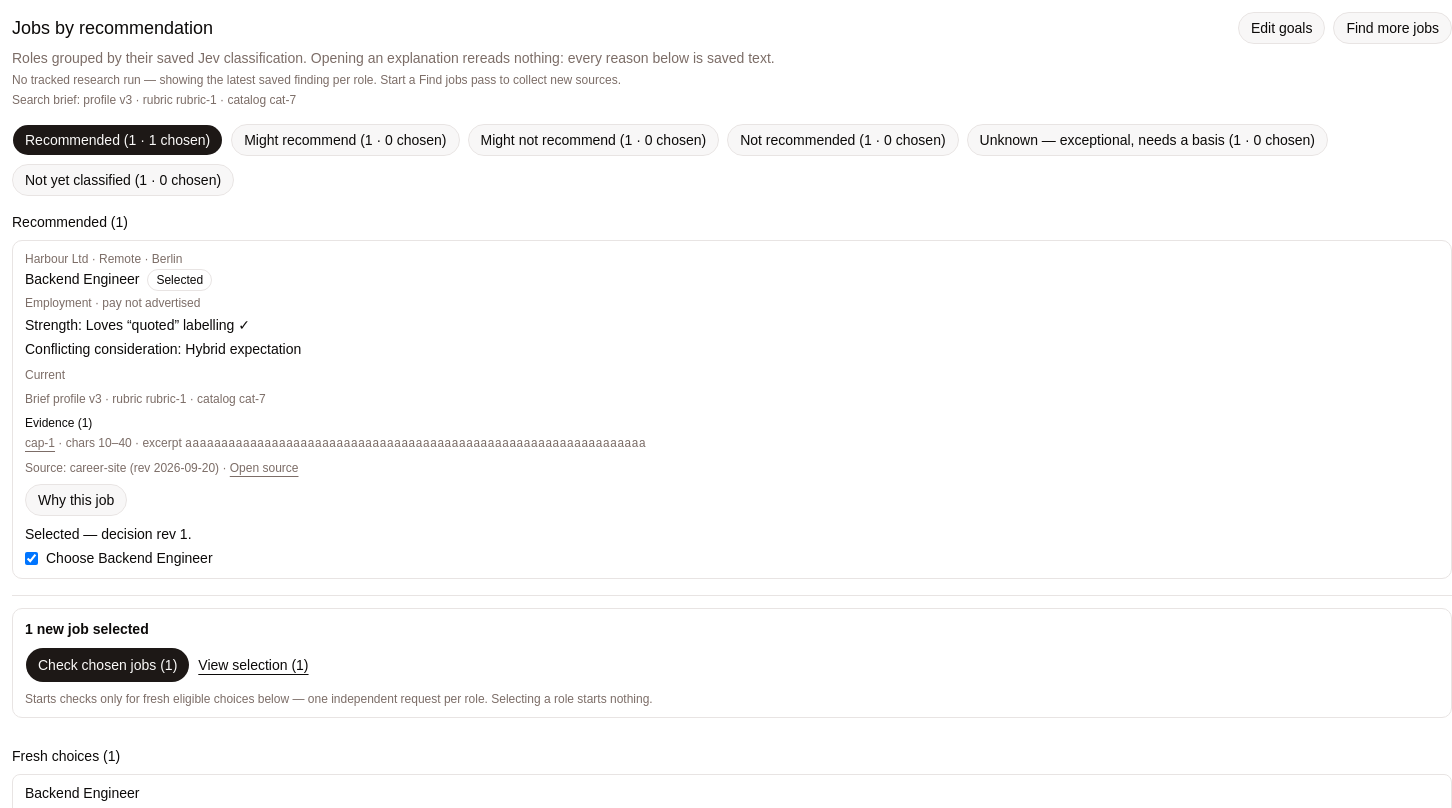
GroupedJobs › sends the existing decision revision as the guard
This screenshot has width=1452, height=808.
Check: the heading "Recommended (1)" is shown, box top-left (12, 214), bottom-right (128, 230)
Click the tab "Might recommend (1 · 0 chosen)" at coordinates (345, 140), box top-left (231, 124), bottom-right (460, 156)
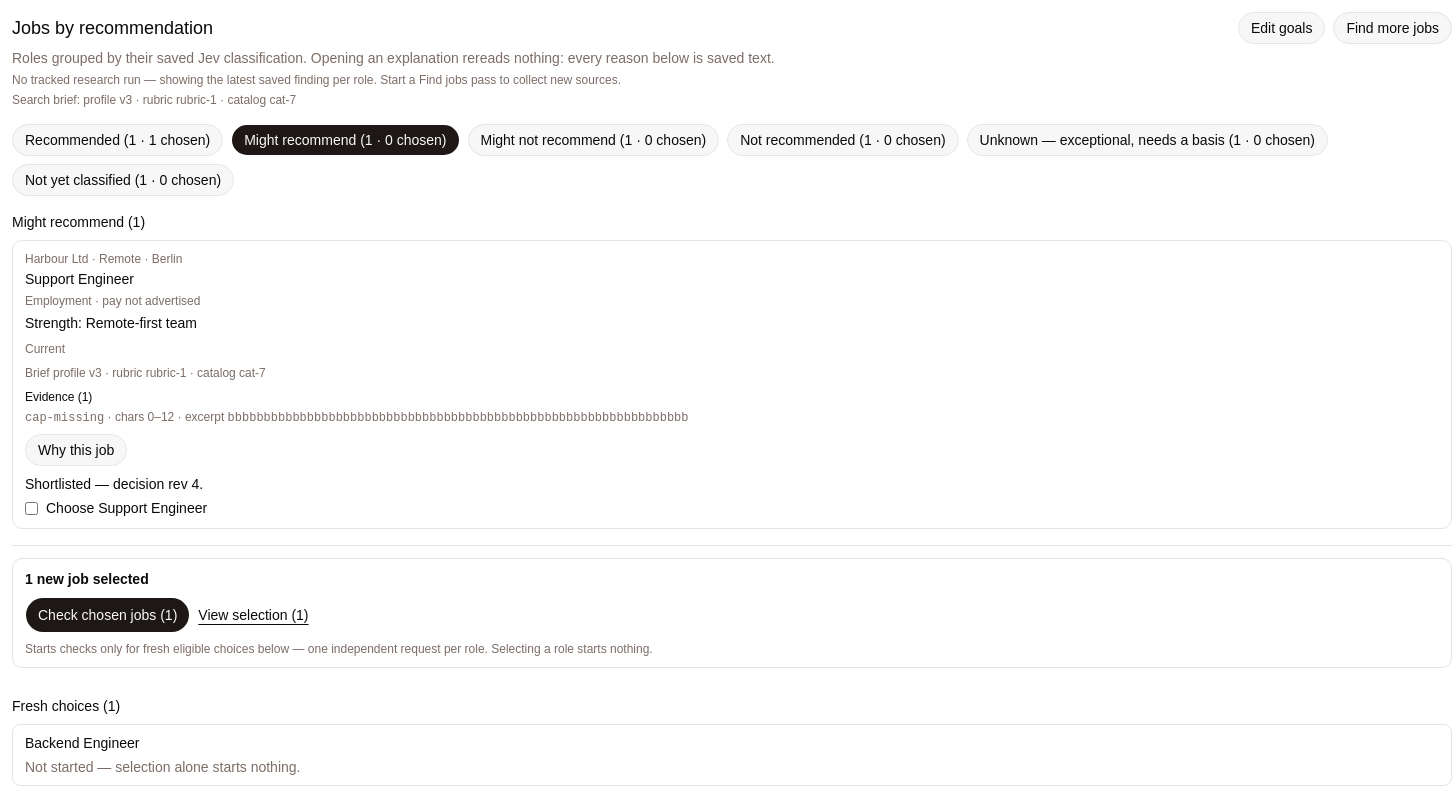
Click the checkbox labelled "Choose Support Engineer" at coordinates (32, 508), box top-left (25, 502), bottom-right (38, 514)
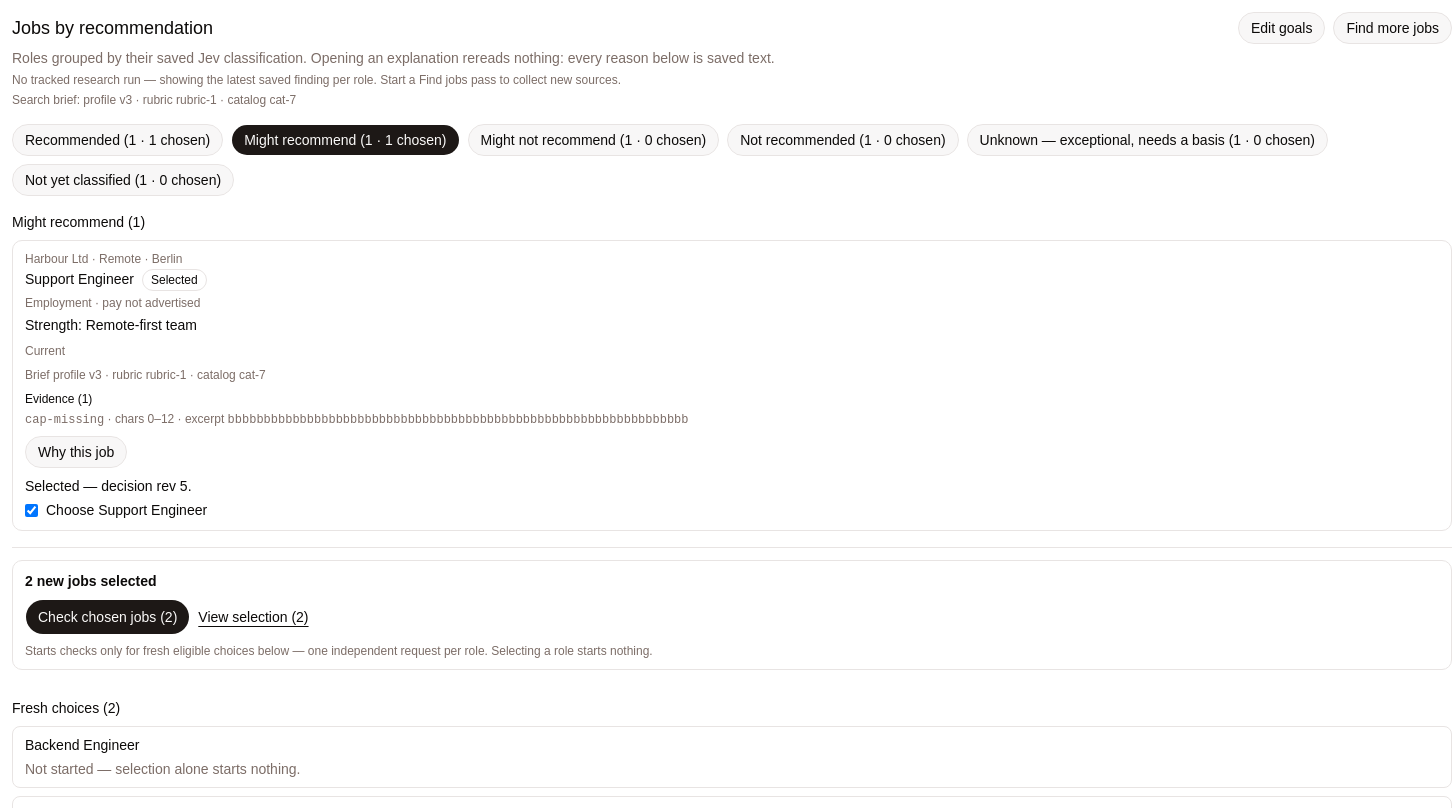
Check: the text "Selected — decision rev 5." is shown, box top-left (25, 478), bottom-right (192, 494)
